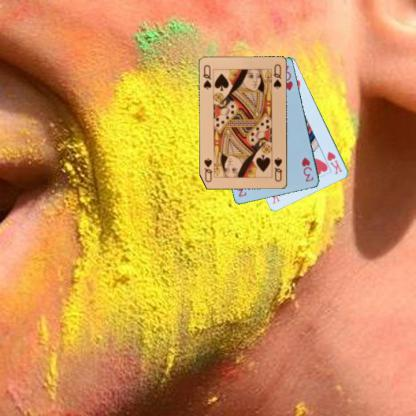3h: (299, 155, 315, 183)
Kh: (325, 149, 343, 176)
Qs: (200, 62, 212, 91), (272, 155, 284, 183)
